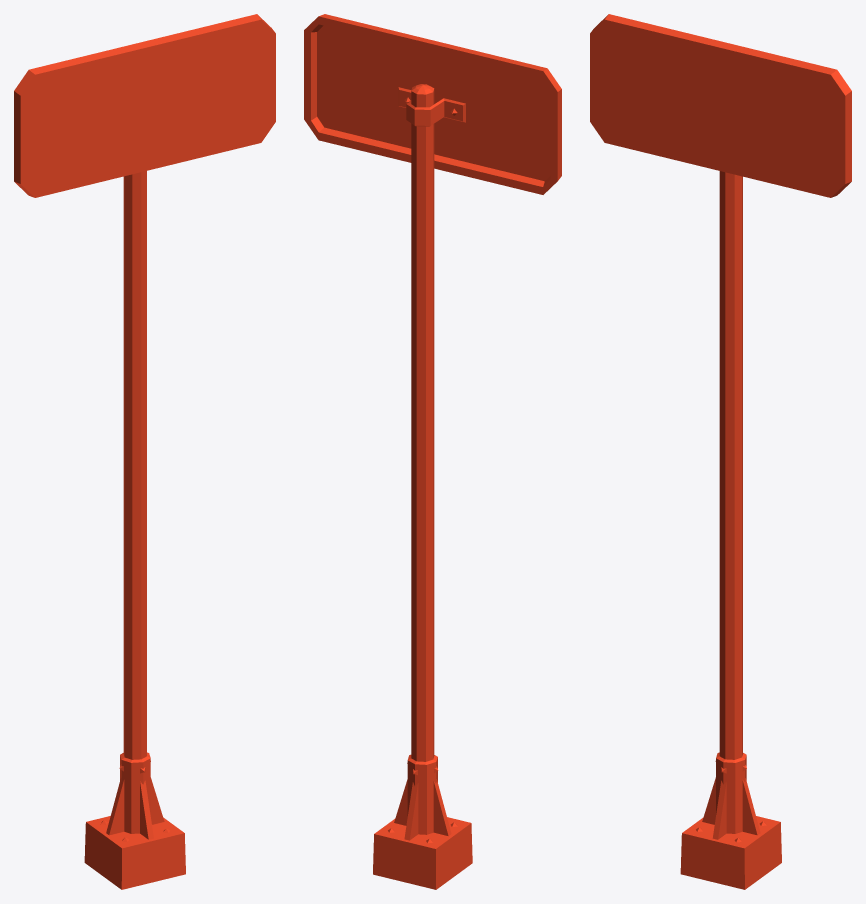
The model's file is SM_Sign_South_B_City.fbx.
The picture shows the model from 3 angles, left to right: view 1: azimuth 30°, elevation 25°; view 2: azimuth 150°, elevation 25°; view 3: azimuth 330°, elevation 25°; orthographic projection.
Visible parts, largest first — view 1: SM_Sign_South_B_City; view 2: SM_Sign_South_B_City; view 3: SM_Sign_South_B_City.
Boxes of the visible parts, bbox=[...] form: SM_Sign_South_B_City: bbox=[14, 14, 275, 889]; SM_Sign_South_B_City: bbox=[304, 14, 561, 889]; SM_Sign_South_B_City: bbox=[590, 14, 851, 889].
Bounding box in the file's own units: 0.7368 × 2.27 × 0.1839.
